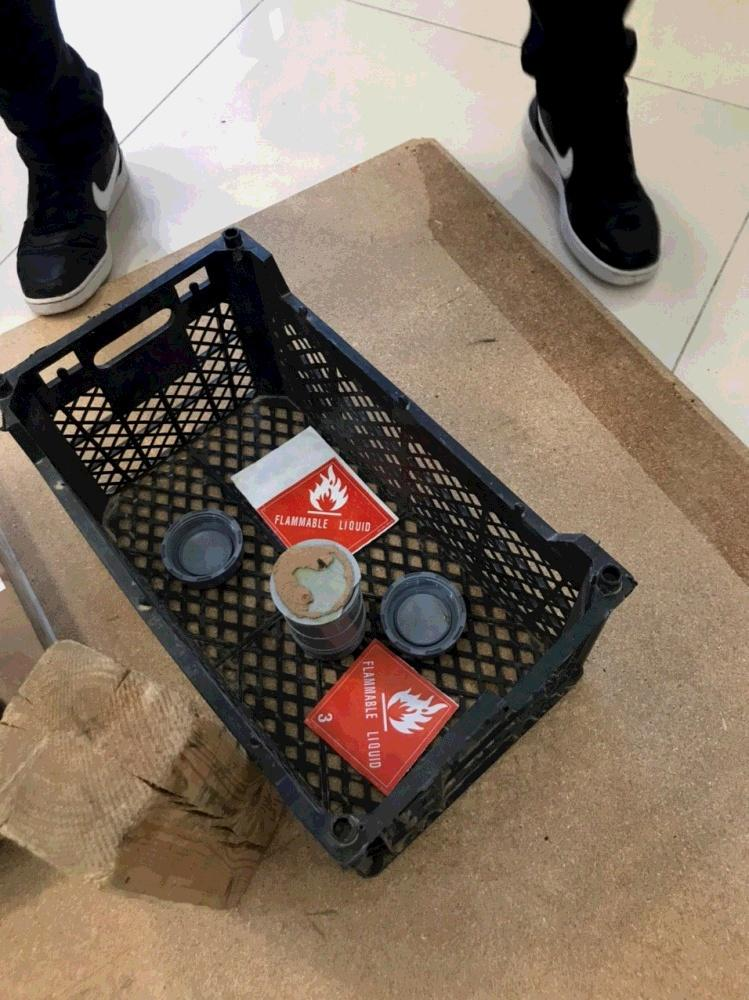flammable: (301, 641, 458, 794), (259, 458, 394, 577)
